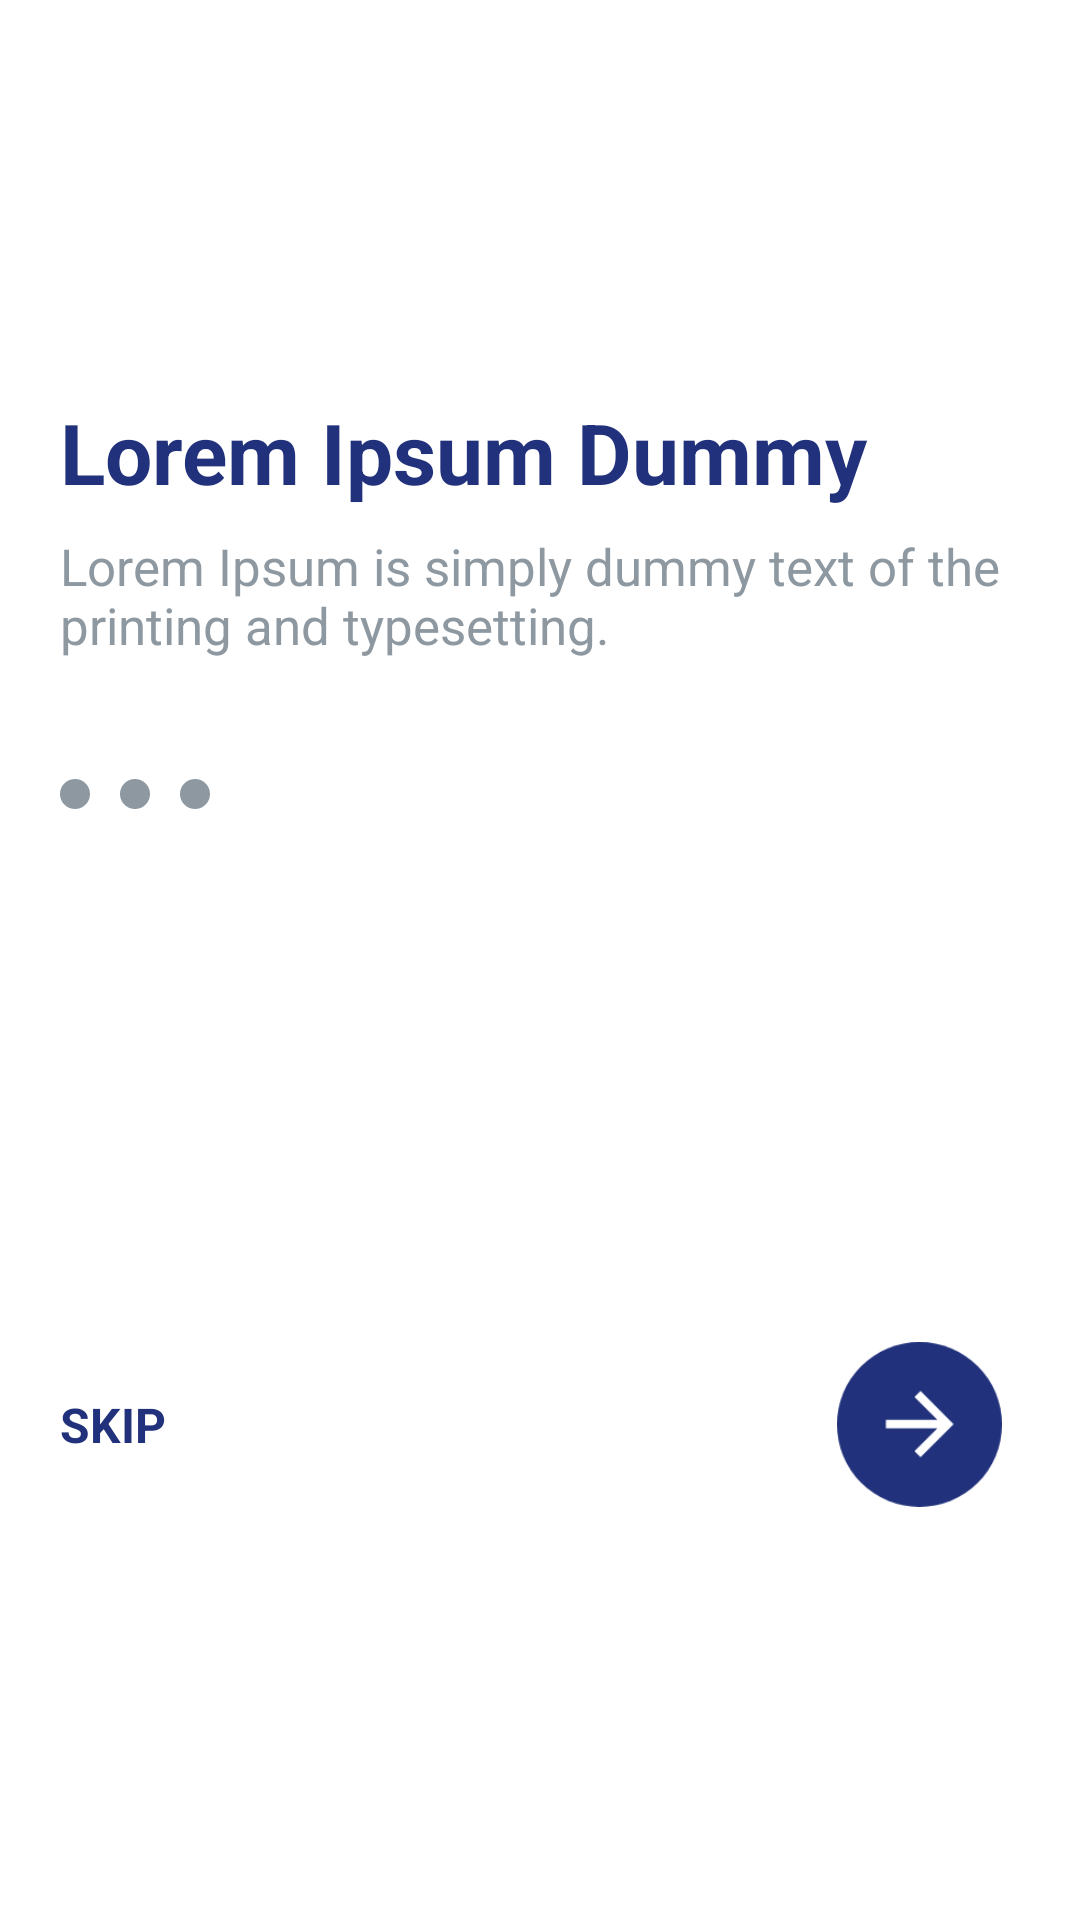

Screen size 1080×1920. Icon name, then its box in pixels as (x1, y1, x2, y2):
next: (837, 1342, 1002, 1507)
